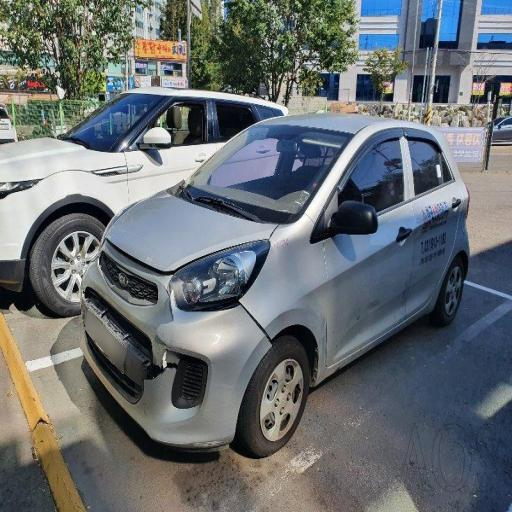broken: (100, 252, 157, 305)
